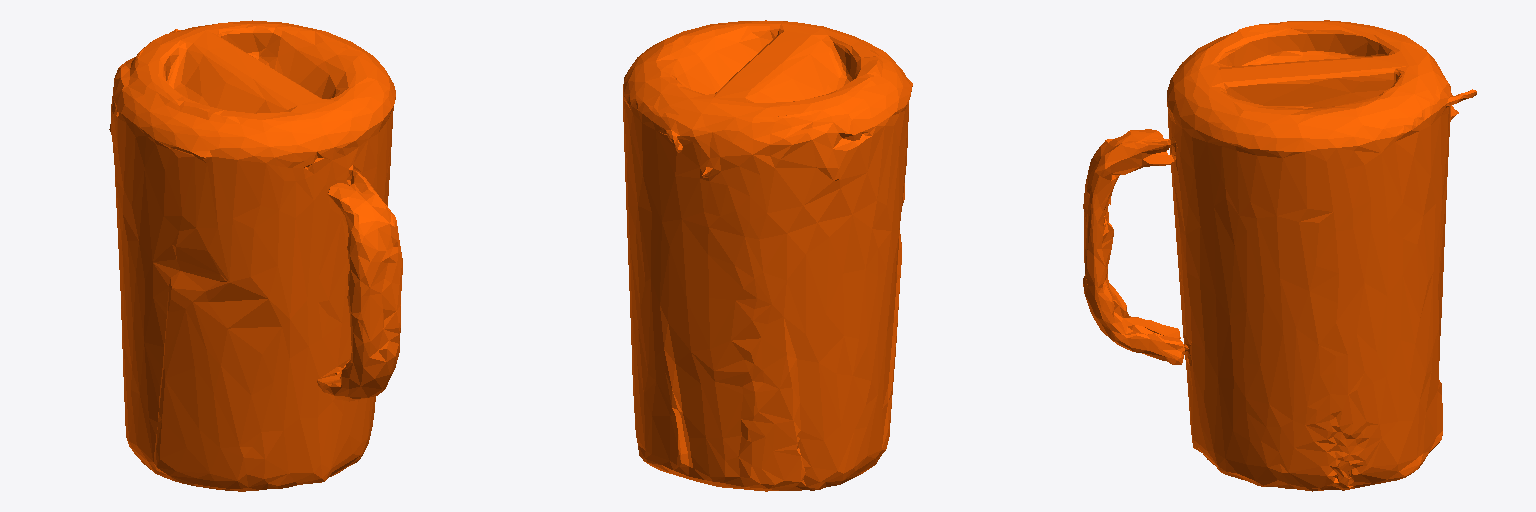
The robot description file, URDF, robot "blue_pitcher":
<?xml version="1.0" ?>
<robot name="blue_pitcher">
   <material name="obj_color">
      <color rgba="1.0 0.423529411765 0.0392156862745 1.0"/>
   </material>
   <link name="top">
      <inertial>
         <origin rpy="0.009078527084345657 0.01727607382147072 0.01768116125240581" xyz="-0.006352487991352448 0.02236660467131887 -0.01072492928471006"/>
         <mass value="4.490858394333301"/>
         <inertia ixx="0.0176810771680879" ixy="3.809216440933358e-06" ixz="1.821432853812241e-05" iyy="0.01726972702644122" iyz="0.000228832692319891" izz="0.009084957963693076"/>
      </inertial>
      <visual>
         <origin rpy="0 0 0" xyz="0 0 0"/>
         <geometry>
            <mesh filename="top_watertight_tiny.stl" scale="1 1 1"/>
         </geometry>
         <material name="obj_color"/>
      </visual>
      <collision>
         <origin rpy="0 0 0" xyz="0 0 0"/>
         <geometry>
            <mesh filename="top_watertight_tiny.obj" scale="1 1 1"/>
         </geometry>
      </collision>
   </link>
   <link name="bottom">
      <inertial>
         <origin rpy="1.633333333199431e-08 1.633333333199431e-08 1.633333333362855e-08" xyz="0.3464080000000008 0.3464080000000008 0.3464080000000008"/>
         <mass value="0.0009800000000000017"/>
         <inertia ixx="1.633333333253906e-08" ixy="5.447480642029219e-19" ixz="5.447480642029219e-19" iyy="1.633333333253906e-08" iyz="5.447480642029219e-19" izz="1.633333333253906e-08"/>
      </inertial>
      <visual>
         <origin rpy="0 0 0" xyz="0 0 0"/>
         <geometry>
            <mesh filename="bottom_watertight_tiny.stl" scale="1 1 1"/>
         </geometry>
         <material name="obj_color"/>
      </visual>
   </link>
   <link name="world"/>
   <joint name="world_to_base" type="fixed">
      <origin xyz="0 0 0"/>
      <axis xyz="0 0 0"/>
      <parent link="world"/>
      <child link="bottom"/>
   </joint>
   <joint name="rotation" type="revolute">
      <origin xyz="0 0 0"/>
      <axis xyz="0 0 -1"/>
      <parent link="bottom"/>
      <child link="top"/>
      <dynamics damping="1.0" friction="1.0"/>
      <limit effort="0.1" velocity="0.1" lower="0" upper="0.001"/>
   </joint>
</robot>

--- What the picture shows (computed from the rendered views, not written in the file) ---
Views: 3 orthographic renders of the robot side by side, from view 1: azimuth 30°, elevation 25°; view 2: azimuth 150°, elevation 25°; view 3: azimuth 270°, elevation 25°.
Robot: blue_pitcher — 3 links, 2 joints (1 revolute, 1 fixed); root link world; default pose: every joint at zero.
Visible links, largest first — view 1: top; view 2: top; view 3: top.
Boxes of the visible links, <box> form: top: <box>109,20,402,491</box>; top: <box>623,20,912,491</box>; top: <box>1083,20,1476,491</box>.
Bounding box of the posed robot: 0.1319 × 0.1829 × 0.1937 m (x, y, z).
Meshes: 2 distinct files referenced, 1 mesh visuals loaded (1 binary STL); not drawn: 1 (reference not matched to a file when rendering).
